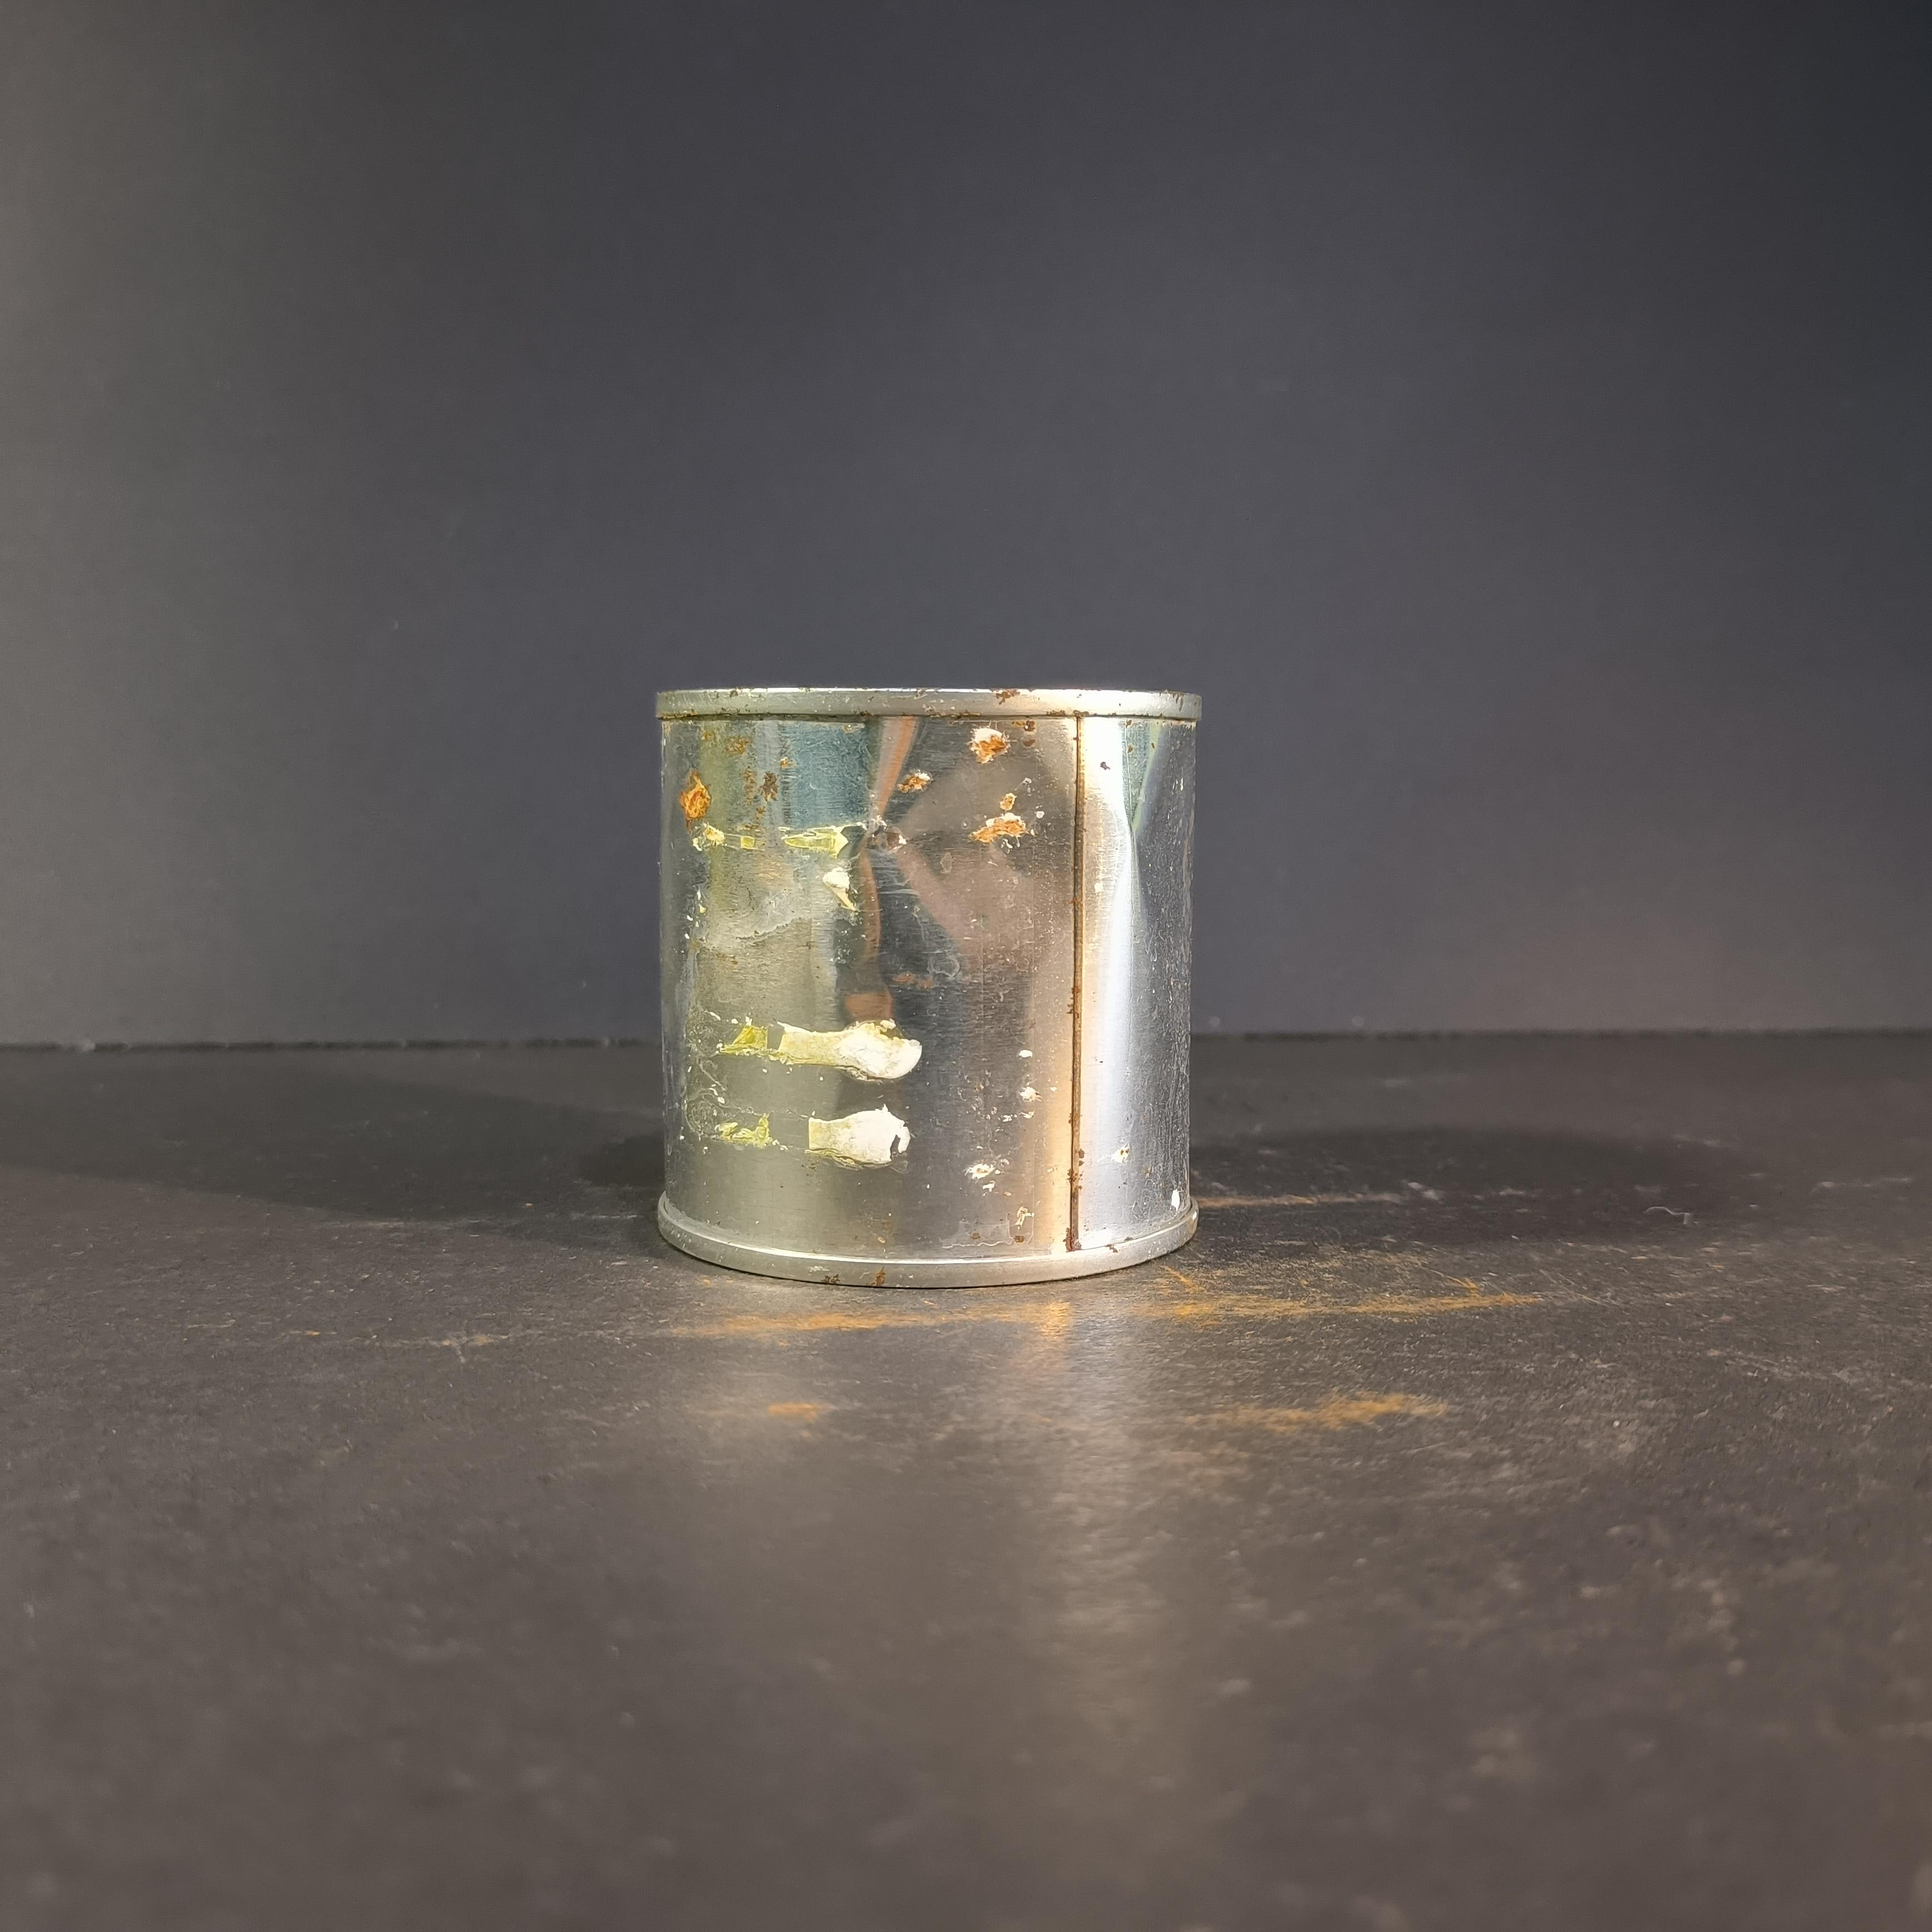Dented: (617, 642, 1228, 1297)
